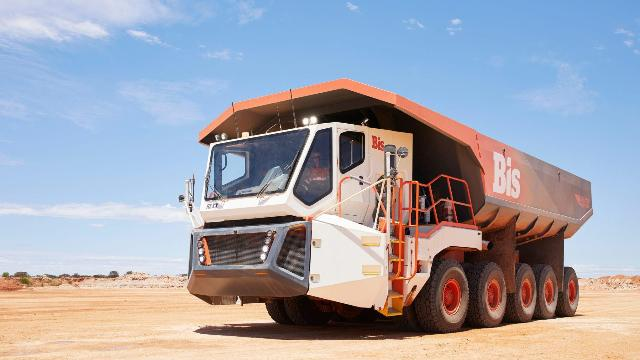truck: (165, 78, 607, 343)
